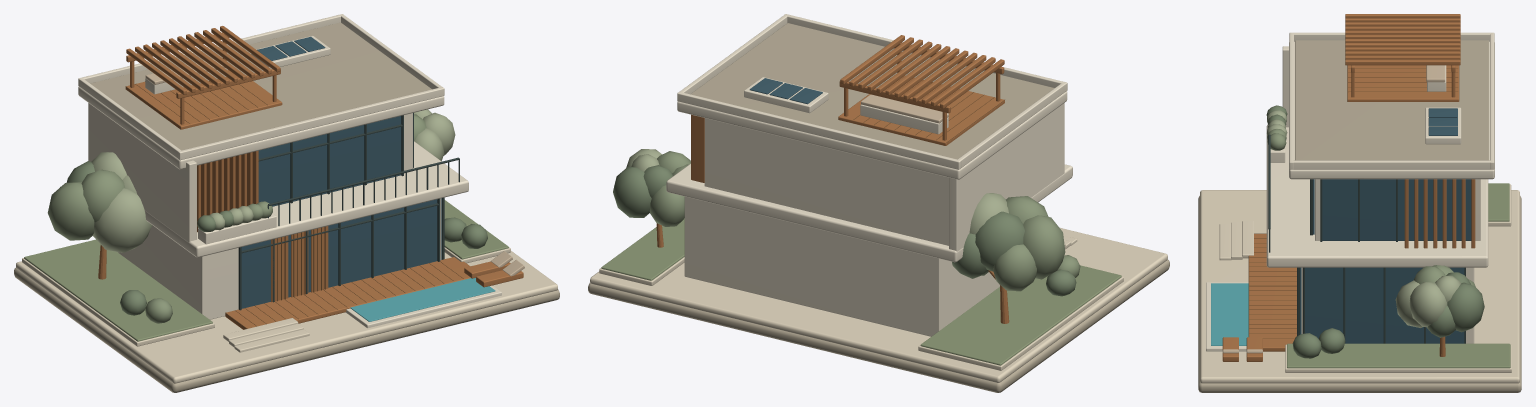
Rendered from nvs-maquete-residencial.glb.
The picture shows the model from 3 angles, left to right: view 1: azimuth 30°, elevation 25°; view 2: azimuth 150°, elevation 25°; view 3: azimuth 270°, elevation 25°; orthographic projection. The views are drawn at different scales.
Parts seen in each view (by area): view 1: Terraço de cobertura, Passeio, Vidraça, Laje em balanço, Vidraça.001, Jardim, Pórtico de concreto, Deque, Pavimento térreo, Base da maquete, Deque.001, Cobertura (+42 smaller); view 2: Pavimento térreo, Pavimento superior, Passeio, Terraço de cobertura, Jardim, Pórtico de concreto, Base da maquete, Laje em balanço, Cobertura, Deque.001, Platibanda.001, Jardim.001 (+32 smaller); view 3: Terraço de cobertura, Passeio, Laje em balanço, Vidraça lateral, Vidraça lateral.001, Jardim.001, Deque, Base da maquete, Deque.001, Cobertura, Lâmina de água, Platibanda lateral.001 (+46 smaller).
Part boxes in pixels (<box>): Terraço de cobertura: <box>90,22,431,150</box>; Passeio: <box>16,251,557,383</box>; Vidraça: <box>241,199,437,308</box>; Laje em balanço: <box>144,141,468,257</box>; Vidraça.001: <box>258,116,401,206</box>; Jardim: <box>24,239,212,341</box>; Pórtico de concreto: <box>88,103,196,242</box>; Deque: <box>225,257,470,329</box>; Pavimento térreo: <box>118,198,441,319</box>; Base da maquete: <box>14,268,559,392</box>; Deque.001: <box>125,70,282,129</box>; Cobertura: <box>78,86,444,169</box>; Pavimento térreo: <box>684,196,999,336</box>; Pavimento superior: <box>704,118,948,245</box>; Passeio: <box>590,228,1167,382</box>; Terraço de cobertura: <box>690,23,1054,159</box>; Jardim: <box>920,265,1121,365</box>; Pórtico de concreto: <box>949,103,1064,251</box>; Base da maquete: <box>588,259,1169,392</box>; Laje em balanço: <box>666,163,1072,262</box>; Cobertura: <box>677,91,1067,179</box>; Deque.001: <box>838,75,1004,145</box>; Platibanda.001: <box>677,92,961,169</box>; Jardim.001: <box>601,218,684,280</box>; Terraço de cobertura: <box>1295,40,1488,160</box>; Passeio: <box>1200,190,1519,383</box>; Laje em balanço: <box>1266,124,1488,267</box>; Vidraça lateral: <box>1305,267,1464,343</box>; Vidraça lateral.001: <box>1322,179,1471,240</box>; Jardim.001: <box>1287,343,1510,368</box>; Deque: <box>1248,234,1296,351</box>; Base da maquete: <box>1198,196,1521,392</box>; Deque.001: <box>1347,65,1459,101</box>; Cobertura: <box>1289,41,1494,179</box>; Lâmina de água: <box>1211,283,1248,345</box>; Platibanda lateral.001: <box>1293,160,1490,169</box>.
Bounding box in the file's own units: 13.33 × 7.26 × 9.2.
